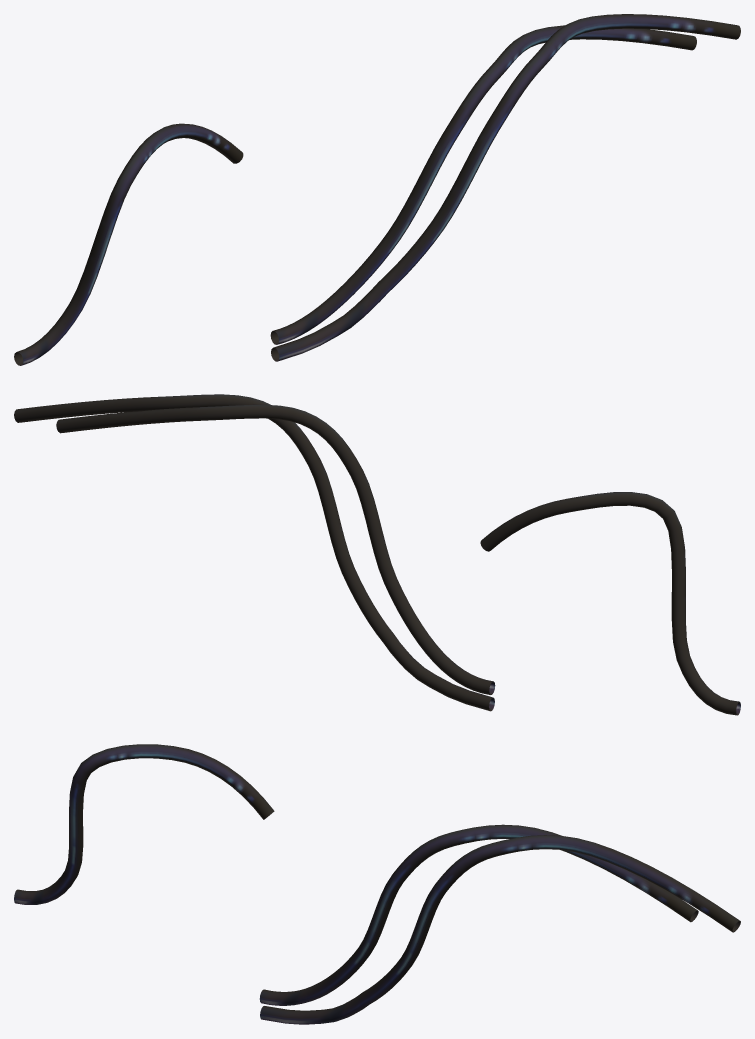
The model's file is Julebu_Xian1_fbx.FBX.
3 renders of one model, top to bottom at view 1: azimuth 30°, elevation 25°; view 2: azimuth 150°, elevation 25°; view 3: azimuth 330°, elevation 25°, orthographic. The views are drawn at different scales.
Parts seen in each view (by area): view 1: Line002; view 2: Line002; view 3: Line002.
Boxes of the visible parts, x1=… form: Line002: x1=14, y1=14, x2=740, y2=365; Line002: x1=14, y1=394, x2=740, y2=715; Line002: x1=14, y1=744, x2=740, y2=1024.
Bounding box in the file's own units: 1.16 × 0.3895 × 0.1252.
